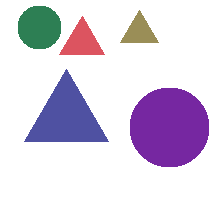circle: (130, 88, 208, 166), (18, 6, 60, 48)
triangle: (24, 69, 108, 141), (59, 16, 104, 54), (120, 10, 158, 42)
